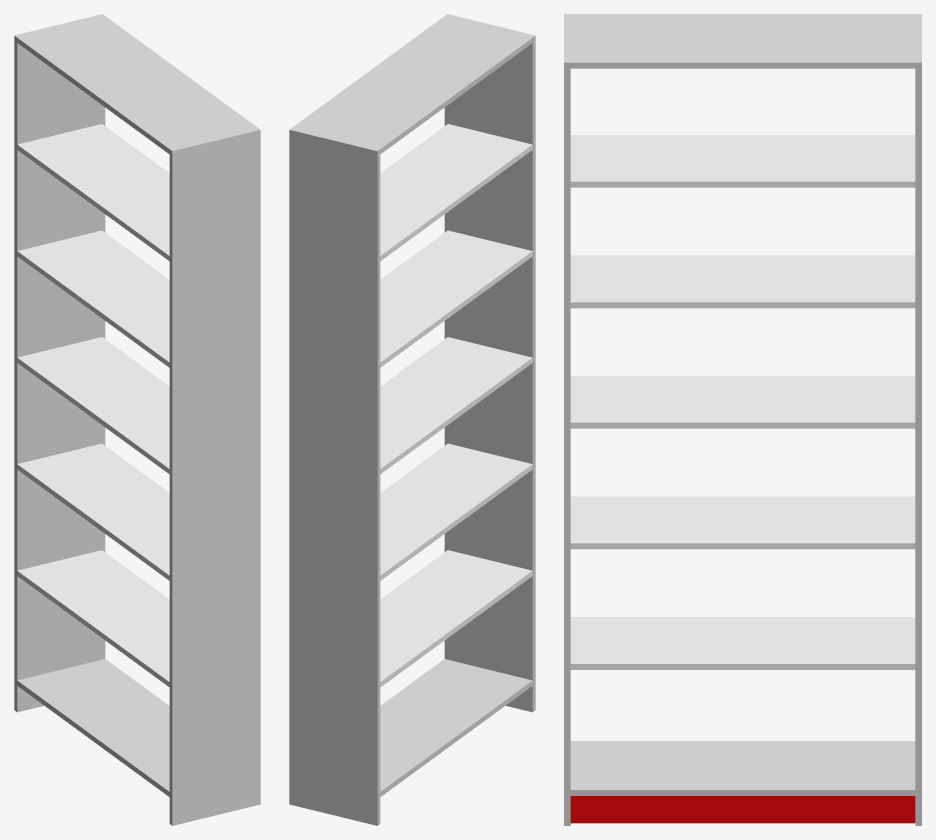
The model's file is Vitrine 0,80.glb.
3 renders of one model, left to right at view 1: azimuth 30°, elevation 25°; view 2: azimuth 150°, elevation 25°; view 3: azimuth 270°, elevation 25°, orthographic. The views are drawn at different scales.
Parts seen in each view (by area): view 1: Geom3D_ (×9); view 2: Geom3D_ (×9); view 3: Geom3D_ (×9), Geom3D.
Boxes of the visible parts, x1,y1,x2,y2 form: Geom3D_ (×9): (14,14,260,825); Geom3D_ (×9): (289,14,535,825); Geom3D_ (×9): (564,14,921,825); Geom3D: (570,796,915,823).
Bounding box in the file's own units: 0.26 × 1.9 × 0.807.
